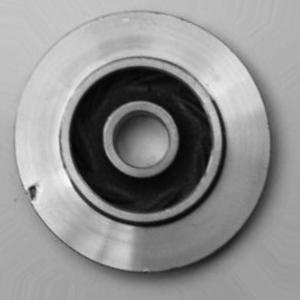crack: (22, 176, 49, 208)
unpolished_casting: (14, 10, 273, 274)
